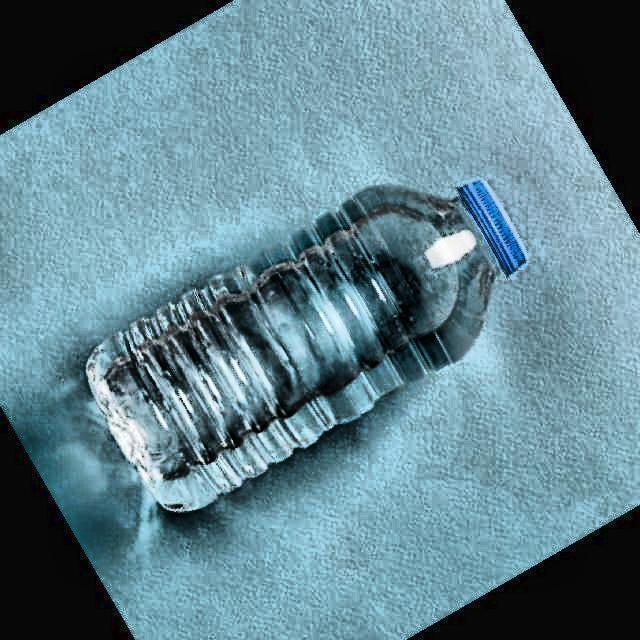plastic: (87, 181, 525, 510)
